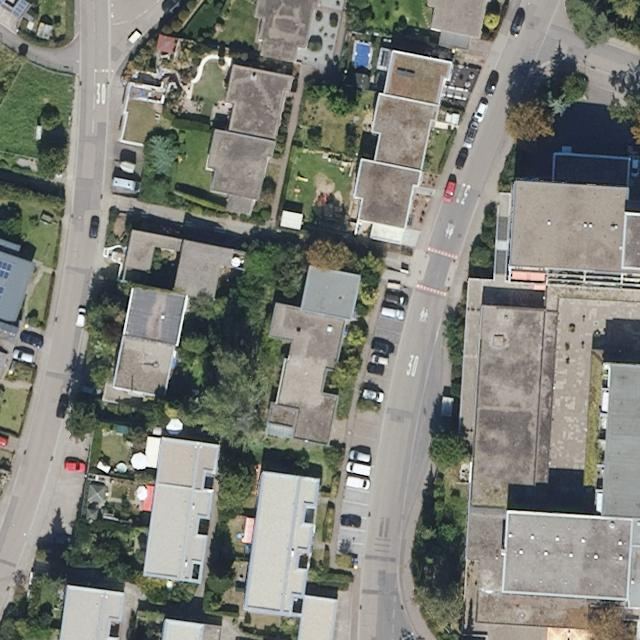PV: (0, 258, 18, 283)
